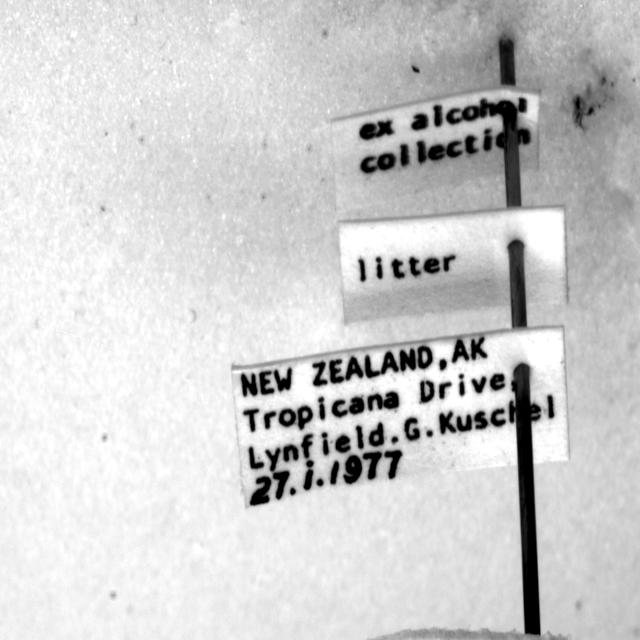mixed_label: (231, 328, 569, 506)
typed_label: (339, 206, 568, 324), (331, 86, 540, 212)
